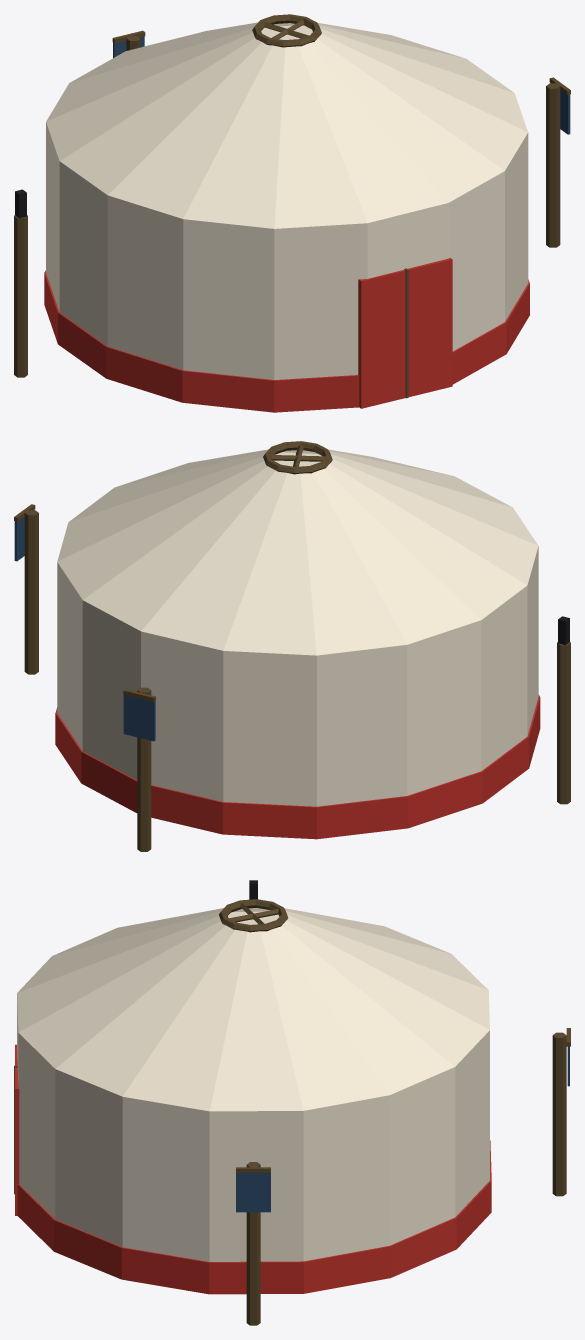
Rendered from Housing_Steppe_02.fbx.
The picture shows the model from 3 angles, top to bottom: view 1: azimuth 30°, elevation 25°; view 2: azimuth 150°, elevation 25°; view 3: azimuth 270°, elevation 25°; orthographic projection.
Visible parts, largest first — view 1: Housing_Steppe_02_Mesh; view 2: Housing_Steppe_02_Mesh; view 3: Housing_Steppe_02_Mesh.
Part boxes in pixels (x1,y1,x2,y2): Housing_Steppe_02_Mesh: [14, 14, 570, 412]; Housing_Steppe_02_Mesh: [14, 441, 570, 851]; Housing_Steppe_02_Mesh: [14, 880, 570, 1325].
Size of the model in its own units: 7.19 by 3.54 by 6.37.
